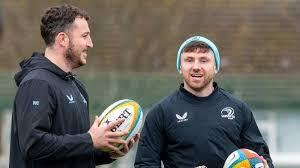ballon_rugby: (92, 98, 144, 156), (222, 147, 268, 168)
